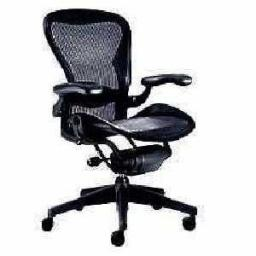Chair: (40, 10, 197, 247)
